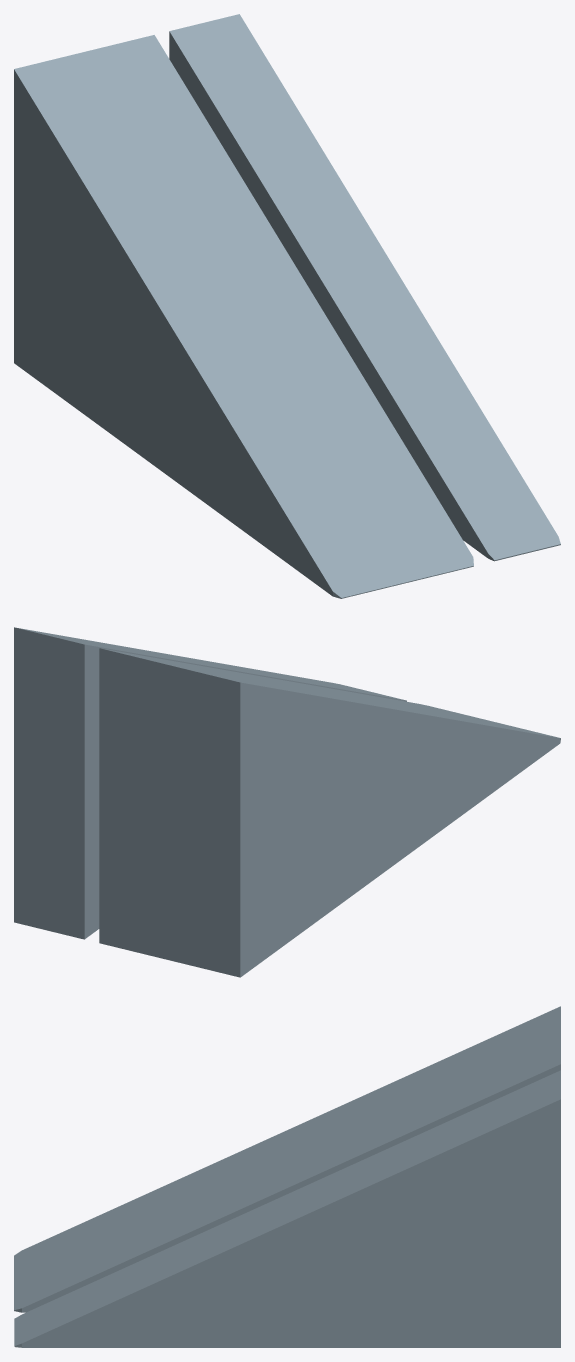
The model's file is Underground_Ramps_TwoStory.fbx.
3 views of the same model, one above another, from view 1: azimuth 30°, elevation 25°; view 2: azimuth 150°, elevation 25°; view 3: azimuth 270°, elevation 25° (orthographic). The views are drawn at different scales.
Parts seen in each view (by area): view 1: Ramp_TwoStory, Ramp_TwoStory_Thin; view 2: Ramp_TwoStory, Ramp_TwoStory_Thin; view 3: Ramp_TwoStory_Thin, Ramp_TwoStory.
Boxes of the visible parts, box(x1,y1,x2,y2) form: Ramp_TwoStory: box(14, 35, 473, 598); Ramp_TwoStory_Thin: box(169, 14, 560, 561); Ramp_TwoStory: box(99, 648, 560, 977); Ramp_TwoStory_Thin: box(14, 627, 406, 939); Ramp_TwoStory_Thin: box(14, 1070, 560, 1347); Ramp_TwoStory: box(14, 1006, 560, 1312).
Bounding box in the file's own units: 6.42 × 8 × 15.95.
